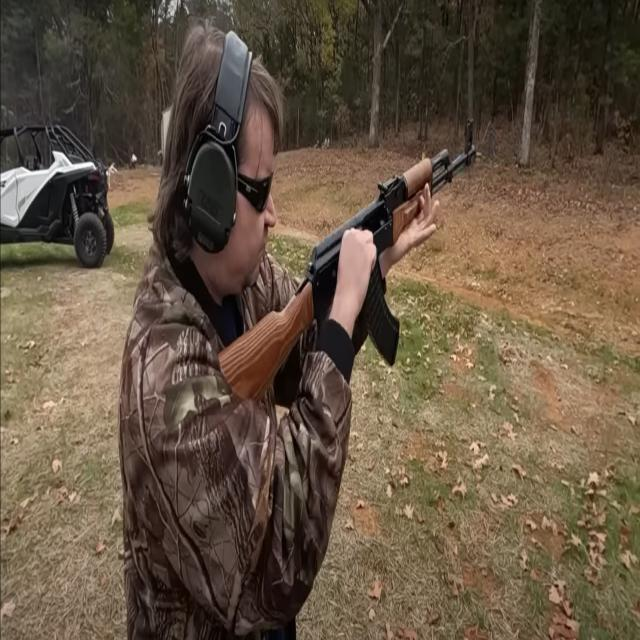ak: (208, 106, 482, 412)
